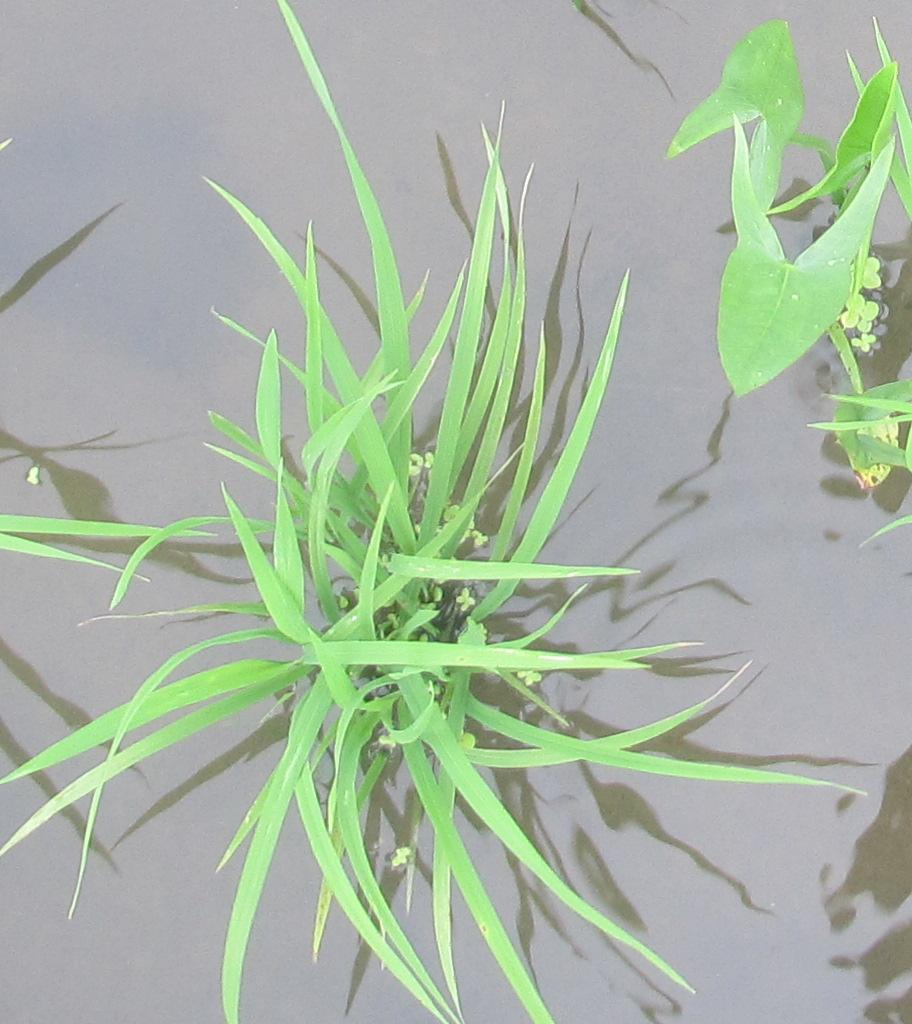Weed: (671, 22, 904, 188), (715, 236, 865, 392)
